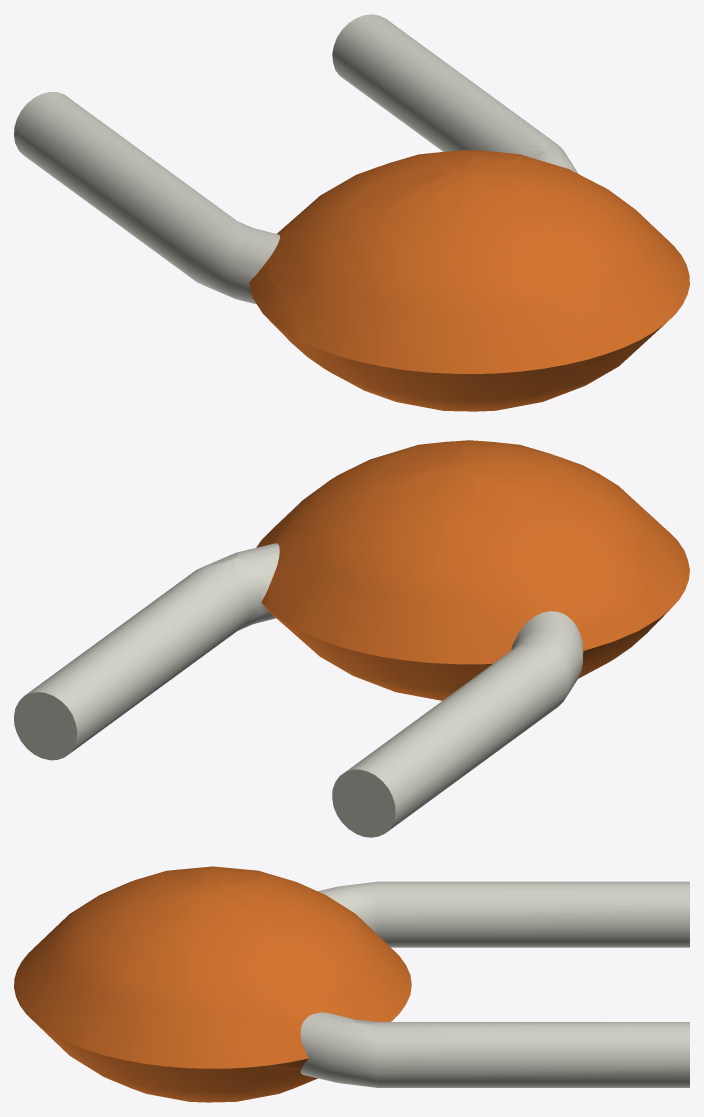
File: c-disc-d3.0-w1.6-p2.50.glb
3 views of the same model, one above another, from view 1: azimuth 30°, elevation 25°; view 2: azimuth 150°, elevation 25°; view 3: azimuth 270°, elevation 25° (orthographic). The views are drawn at different scales.
Parts seen in each view (by area): view 1: PLASTIC-ORANGE-01, PIN-01; view 2: PLASTIC-ORANGE-01, PIN-01; view 3: PLASTIC-ORANGE-01, PIN-01.
Part boxes in pixels (box(x1,y1,x2,y2)): PLASTIC-ORANGE-01: box(249, 150, 689, 411); PIN-01: box(14, 14, 578, 304); PLASTIC-ORANGE-01: box(256, 440, 689, 700); PIN-01: box(14, 543, 583, 837); PLASTIC-ORANGE-01: box(14, 866, 411, 1102); PIN-01: box(300, 881, 689, 1087).
Bounding box in the file's own units: 3 × 1.6 × 5.1.
